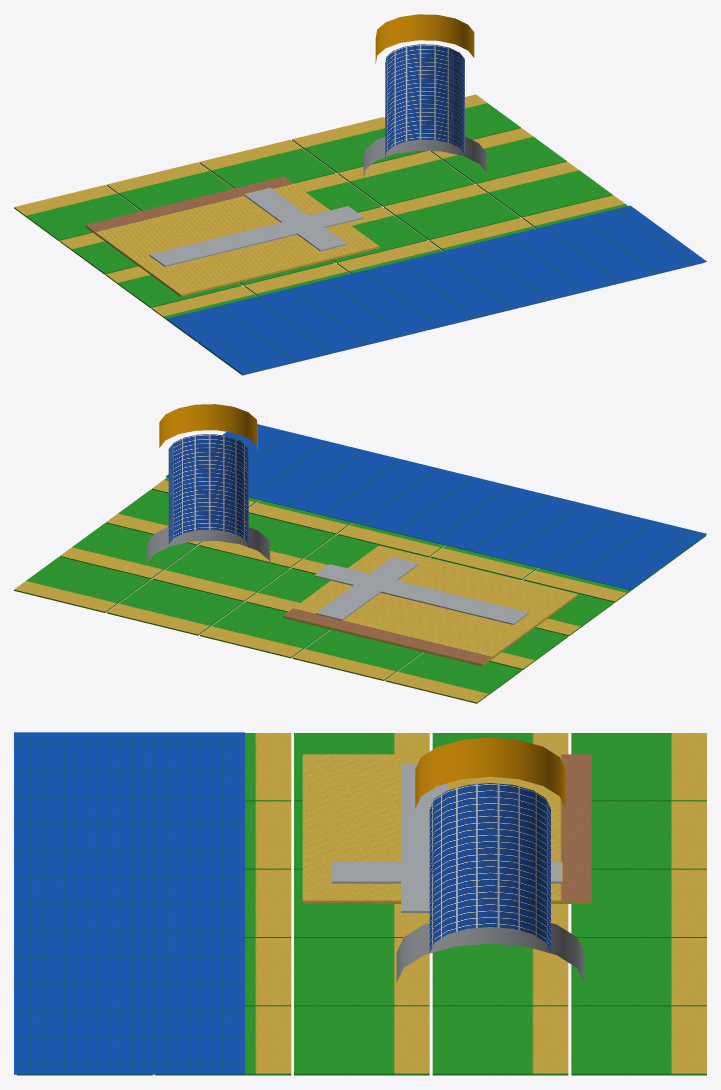
3 views of the same model, one above another, from view 1: azimuth 30°, elevation 25°; view 2: azimuth 150°, elevation 25°; view 3: azimuth 270°, elevation 25° (orthographic). The views are drawn at different scales.
Parts seen in each view (by area): view 1: 28185_B50_Songdo_Landmark_City_Waterfront_Park; view 2: 28185_B50_Songdo_Landmark_City_Waterfront_Park; view 3: 28185_B50_Songdo_Landmark_City_Waterfront_Park.
Boxes of the visible parts, x1,y1,x2,y2 form: 28185_B50_Songdo_Landmark_City_Waterfront_Park: (14,14,706,375); 28185_B50_Songdo_Landmark_City_Waterfront_Park: (14,404,706,703); 28185_B50_Songdo_Landmark_City_Waterfront_Park: (14,732,706,1075).
Bounding box in the file's own units: 56 × 16.5 × 48.
1 material, 1 textured.
